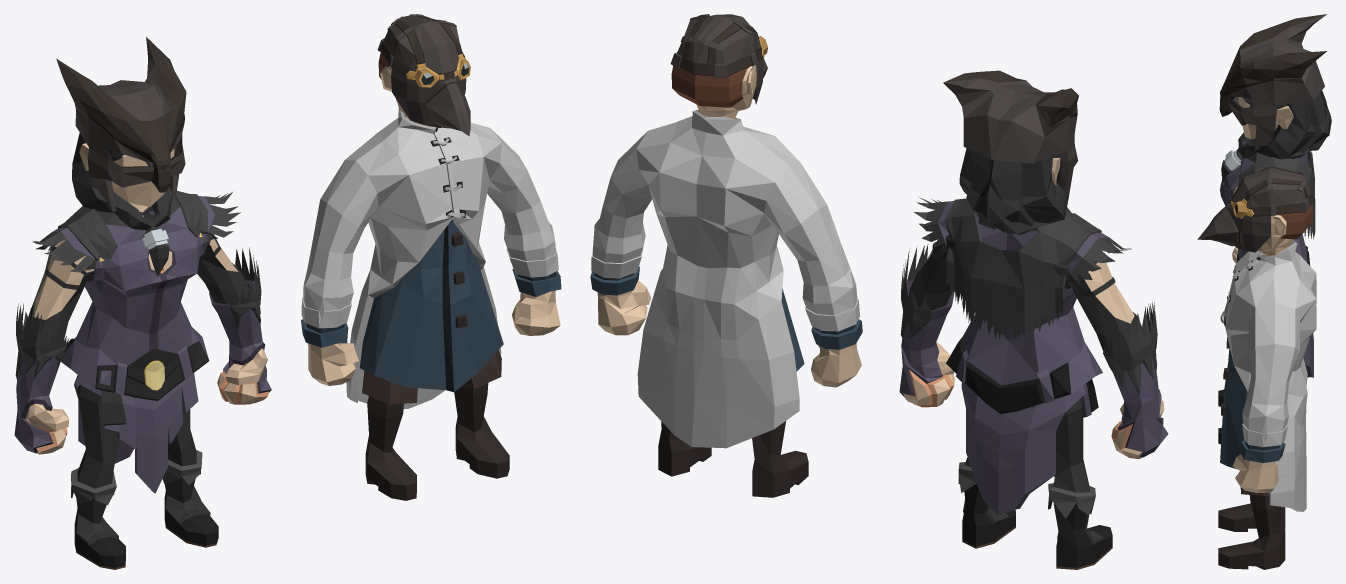
File: 08_NPC_Johanson_Barnabee.fbx
The picture shows the model from 3 angles, left to right: view 1: azimuth 30°, elevation 25°; view 2: azimuth 150°, elevation 25°; view 3: azimuth 270°, elevation 25°; orthographic projection. The views are drawn at different scales.
Visible parts, largest first — view 1: B1_NPC_BarnabeeJohanson_03tri:Johanson, B1_NPC_BarnabeeJohanson_03tri:Barnabee, B1_NPC_BarnabeeJohanson_03tri:Barnabeemask, B1_NPC_BarnabeeJohanson_03tri:Johansonmask; view 2: B1_NPC_BarnabeeJohanson_03tri:Johanson, B1_NPC_BarnabeeJohanson_03tri:Barnabee, B1_NPC_BarnabeeJohanson_03tri:Barnabeemask, B1_NPC_BarnabeeJohanson_03tri:Johansonmask; view 3: B1_NPC_BarnabeeJohanson_03tri:Johanson, B1_NPC_BarnabeeJohanson_03tri:Barnabeemask, B1_NPC_BarnabeeJohanson_03tri:Barnabee, B1_NPC_BarnabeeJohanson_03tri:Johansonmask.
Boxes of the visible parts, left/top/right/bottom form: B1_NPC_BarnabeeJohanson_03tri:Johanson: left=301, top=52, right=561, bottom=500; B1_NPC_BarnabeeJohanson_03tri:Barnabee: left=14, top=133, right=271, bottom=569; B1_NPC_BarnabeeJohanson_03tri:Barnabeemask: left=56, top=37, right=186, bottom=212; B1_NPC_BarnabeeJohanson_03tri:Johansonmask: left=377, top=14, right=470, bottom=136; B1_NPC_BarnabeeJohanson_03tri:Johanson: left=590, top=65, right=862, bottom=497; B1_NPC_BarnabeeJohanson_03tri:Barnabee: left=899, top=148, right=1168, bottom=569; B1_NPC_BarnabeeJohanson_03tri:Barnabeemask: left=943, top=70, right=1078, bottom=196; B1_NPC_BarnabeeJohanson_03tri:Johansonmask: left=670, top=14, right=767, bottom=104; B1_NPC_BarnabeeJohanson_03tri:Johanson: left=1218, top=204, right=1316, bottom=569; B1_NPC_BarnabeeJohanson_03tri:Barnabeemask: left=1219, top=14, right=1326, bottom=151; B1_NPC_BarnabeeJohanson_03tri:Barnabee: left=1218, top=90, right=1331, bottom=444; B1_NPC_BarnabeeJohanson_03tri:Johansonmask: left=1197, top=165, right=1314, bottom=252.
Bounding box in the file's own units: 1132 × 934 × 291.
